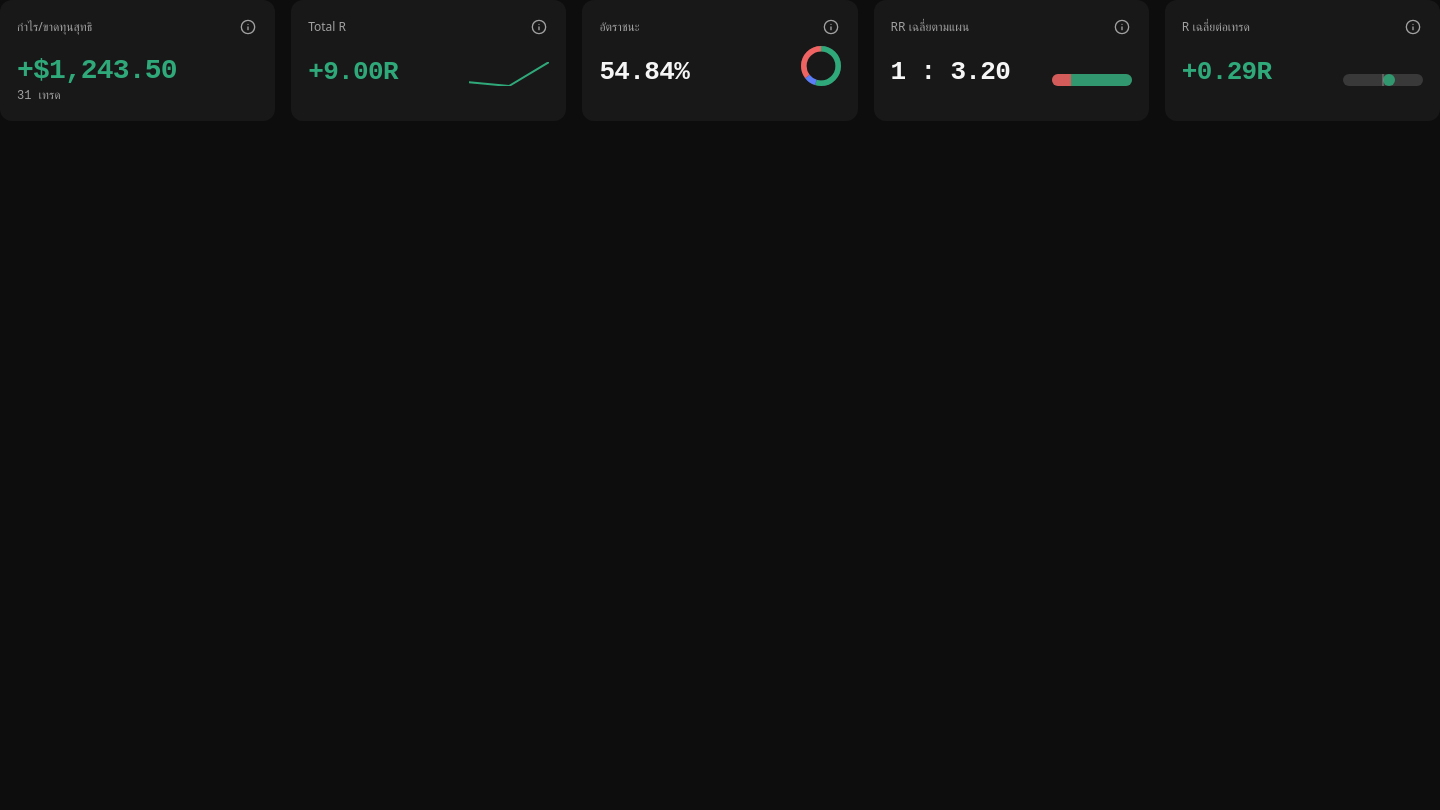
Test: BasicKpiRow › renders Thai copy for labels, definitions and revealed detail
Expected: the text "อัตราชนะ" is shown, [599,17,640,36]
Expected: the button named "เกี่ยวกับ อัตราชนะ" is shown, [817,13,845,41]
Click the button named "ดูรายละเอียดอัตราชนะ" at point(821, 66), box [795,40,847,92]
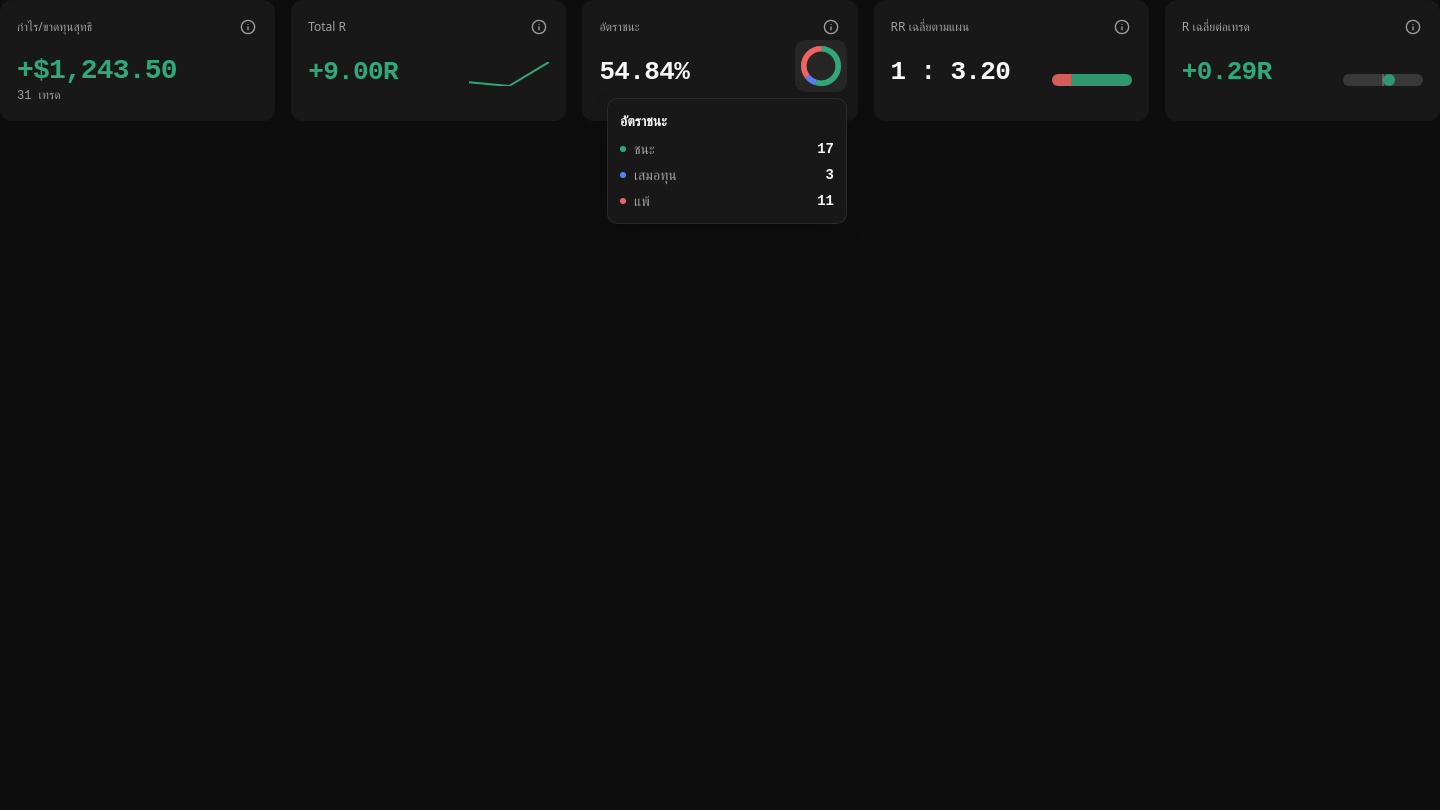
Expected: the text "ชนะ" is shown, [634,139,655,159]
Expected: the text "เสมอทุน" is shown, [634,165,677,185]
Expected: the text "แพ้" is shown, [634,191,650,211]
